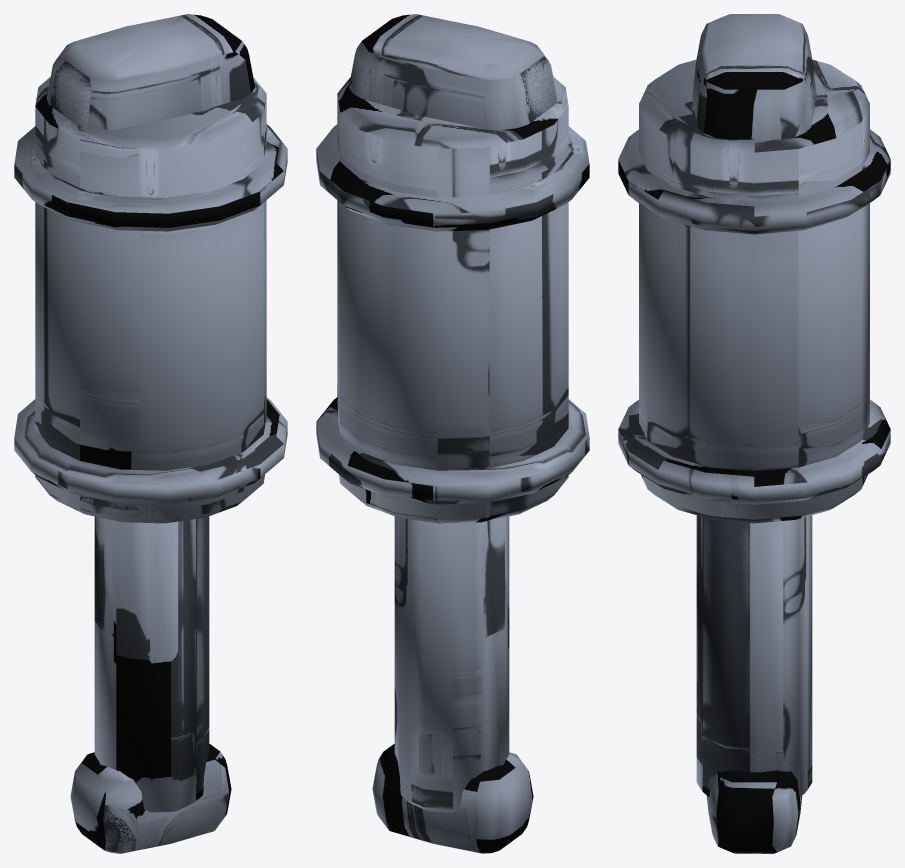
The model's file is Remache_PistonBrazoDer.fbx.
3 views of the same model, side by side, from view 1: azimuth 30°, elevation 25°; view 2: azimuth 150°, elevation 25°; view 3: azimuth 270°, elevation 25° (orthographic).
Parts seen in each view (by area): view 1: Remache_PistonBrazoDer; view 2: Remache_PistonBrazoDer; view 3: Remache_PistonBrazoDer.
Boxes of the visible parts, x1,y1,x2,y2 form: Remache_PistonBrazoDer: (14, 14, 287, 853); Remache_PistonBrazoDer: (316, 14, 589, 853); Remache_PistonBrazoDer: (618, 14, 890, 853).
Size of the model in its own units: 0.6321 by 2.03 by 0.6321.
